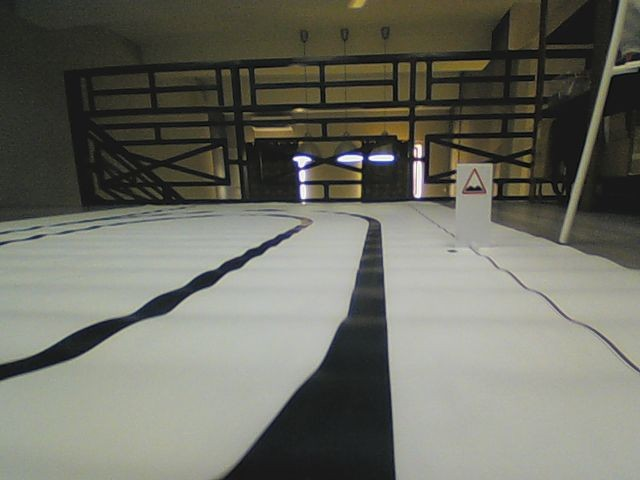Nerov: (461, 167, 489, 197)
